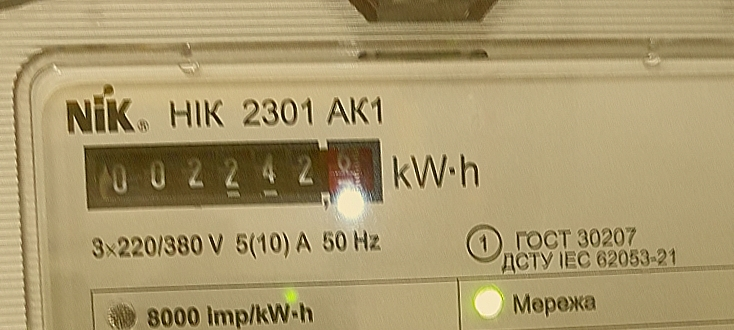0: (107, 161, 129, 195), (145, 157, 166, 190)
2: (183, 155, 204, 188), (220, 155, 239, 189), (294, 153, 312, 186)
4: (258, 151, 276, 184)
6: (334, 146, 351, 173)
screen: (71, 121, 393, 226)
